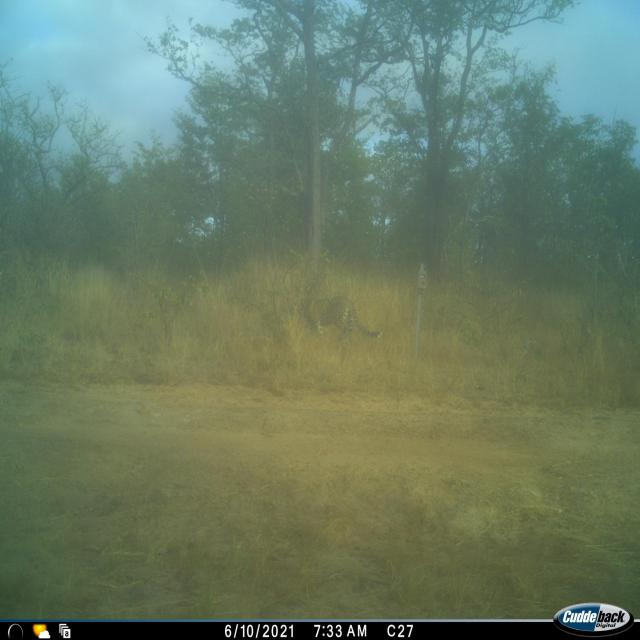Leopard: (291, 289, 380, 341)
